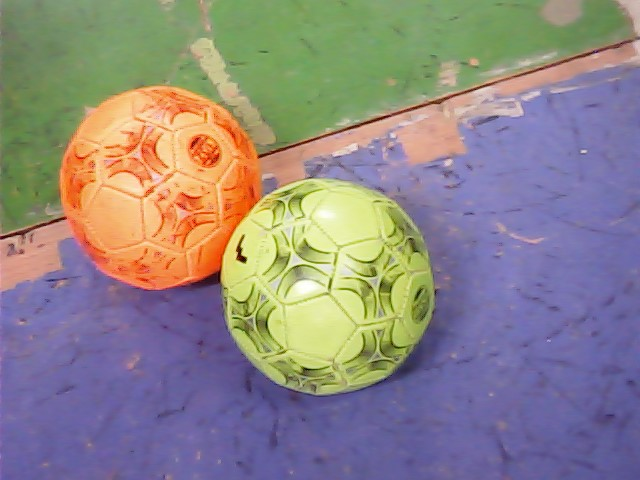Green_ball: (222, 174, 438, 390)
Orange_ball: (60, 87, 265, 292)
